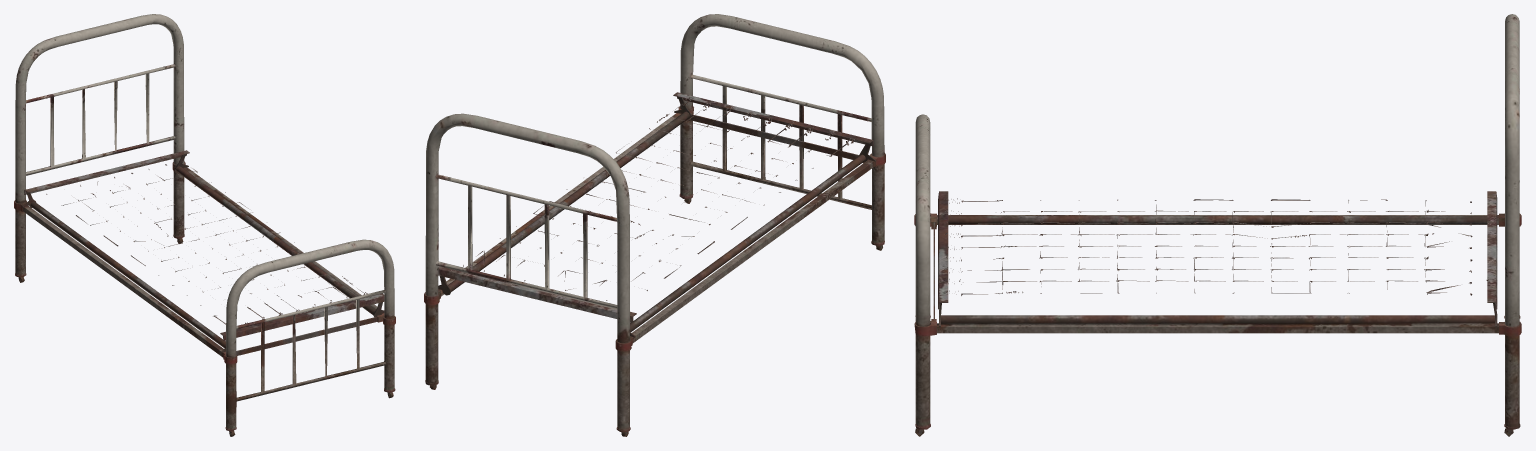
Rendered from old_bed_frame.glb.
The picture shows the model from 3 angles, left to right: view 1: azimuth 30°, elevation 25°; view 2: azimuth 150°, elevation 25°; view 3: azimuth 270°, elevation 25°; orthographic projection. The views are drawn at different scales.
Size of the model in its own units: 0.9047 by 1.2 by 2.
Materials: 1 (1 with a texture image).
